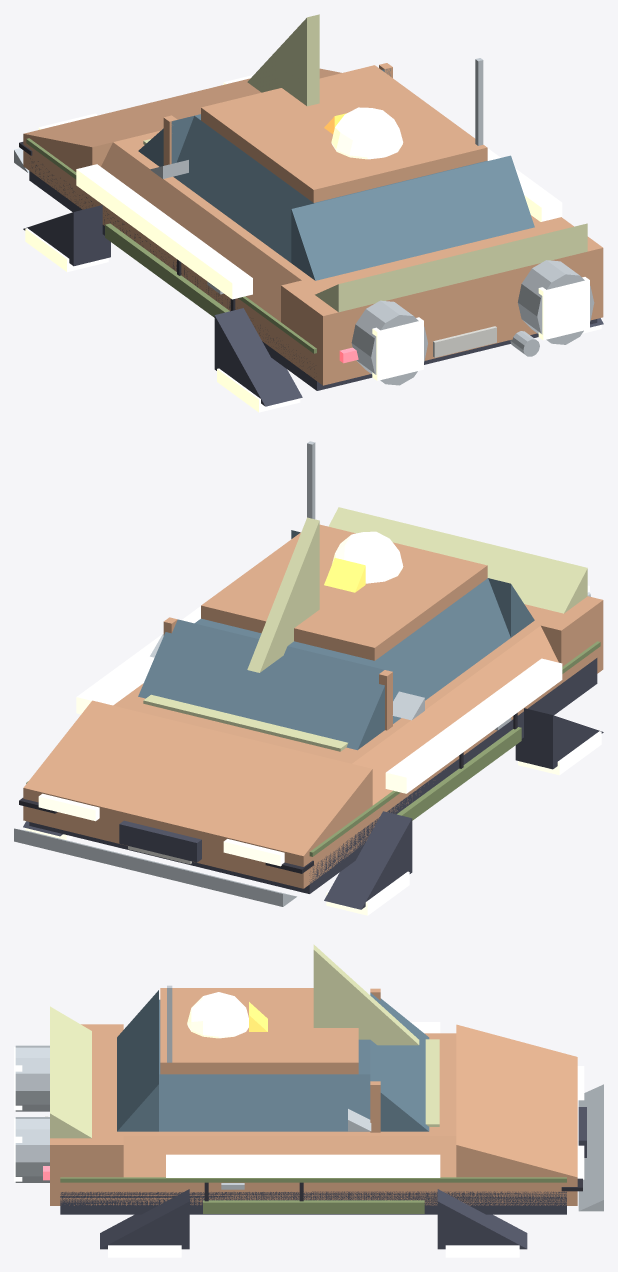
The model's file is starlight_sled.glb.
3 renders of one model, top to bottom at view 1: azimuth 30°, elevation 25°; view 2: azimuth 150°, elevation 25°; view 3: azimuth 270°, elevation 25°, orthographic. The views are drawn at different scales.
Parts seen in each view (by area): view 1: Roof.306, RearWindow.206, Tail.106, Body.306, CabinSideL.103, Ducktail.073, ShoulderL.103, Nose.103, FloatFin-1.048, HoverPodWheel_RL.048, BridgeFin.014, HoverPodWheel_FL.048 (+15 smaller); view 2: Nose.103, Windshield.206, Roof.306, Body.306, CabinSideL.103, Ducktail.073, ShoulderL.103, FloatFin-1.048, Sill.302, BridgeFin.014, HoverPodWheel_FL.048, BodyUpper.103 (+18 smaller); view 3: Nose.103, Roof.306, CabinSideR.103, Body.306, ShoulderR.103, Sill.302, FloatFin1.048, Tail.106, Ducktail.073, RearWindow.206, Windshield.206, BridgeFin.014 (+15 smaller).
Part boxes in pixels (x1=…): Roof.306: x1=201, y1=65, x2=487, y2=202; RearWindow.206: x1=291, y1=155, x2=534, y2=280; Tail.106: x1=281, y1=217, x2=603, y2=352; Body.306: x1=23, y1=134, x2=603, y2=385; CabinSideL.103: x1=173, y1=116, x2=313, y2=262; Ducktail.073: x1=315, y1=223, x2=587, y2=312; ShoulderL.103: x1=101, y1=142, x2=301, y2=321; Nose.103: x1=23, y1=68, x2=341, y2=171; FloatFin-1.048: x1=76, y1=164, x2=252, y2=299; HoverPodWheel_RL.048: x1=214, y1=308, x2=302, y2=406; BridgeFin.014: x1=247, y1=14, x2=319, y2=106; HoverPodWheel_FL.048: x1=23, y1=205, x2=110, y2=266; Nose.103: x1=23, y1=700, x2=372, y2=856; Windshield.206: x1=138, y1=619, x2=384, y2=750; Roof.306: x1=201, y1=524, x2=487, y2=660; Body.306: x1=23, y1=637, x2=603, y2=888; CabinSideL.103: x1=368, y1=578, x2=510, y2=723; Ducktail.073: x1=328, y1=507, x2=587, y2=613; ShoulderL.103: x1=352, y1=626, x2=558, y2=805; FloatFin-1.048: x1=385, y1=658, x2=562, y2=793; Sill.302: x1=29, y1=658, x2=597, y2=893; BridgeFin.014: x1=247, y1=517, x2=319, y2=672; HoverPodWheel_FL.048: x1=324, y1=811, x2=412, y2=909; BodyUpper.103: x1=113, y1=623, x2=540, y2=763; Nose.103: x1=456, y1=1024, x2=577, y2=1177; Roof.306: x1=160, y1=988, x2=358, y2=1074; CabinSideR.103: x1=159, y1=1074, x2=370, y2=1131; Body.306: x1=50, y1=1177, x2=577, y2=1205; ShoulderR.103: x1=123, y1=1136, x2=456, y2=1177; Sill.302: x1=60, y1=1191, x2=566, y2=1214; FloatFin1.048: x1=166, y1=1154, x2=440, y2=1177; Tail.106: x1=50, y1=1024, x2=123, y2=1177; Ducktail.073: x1=50, y1=1006, x2=91, y2=1138; RearWindow.206: x1=117, y1=990, x2=158, y2=1131; Windshield.206: x1=370, y1=993, x2=429, y2=1131; BridgeFin.014: x1=313, y1=944, x2=419, y2=1045.
Size of the model in its own units: 3.3 by 2.48 by 5.59.
